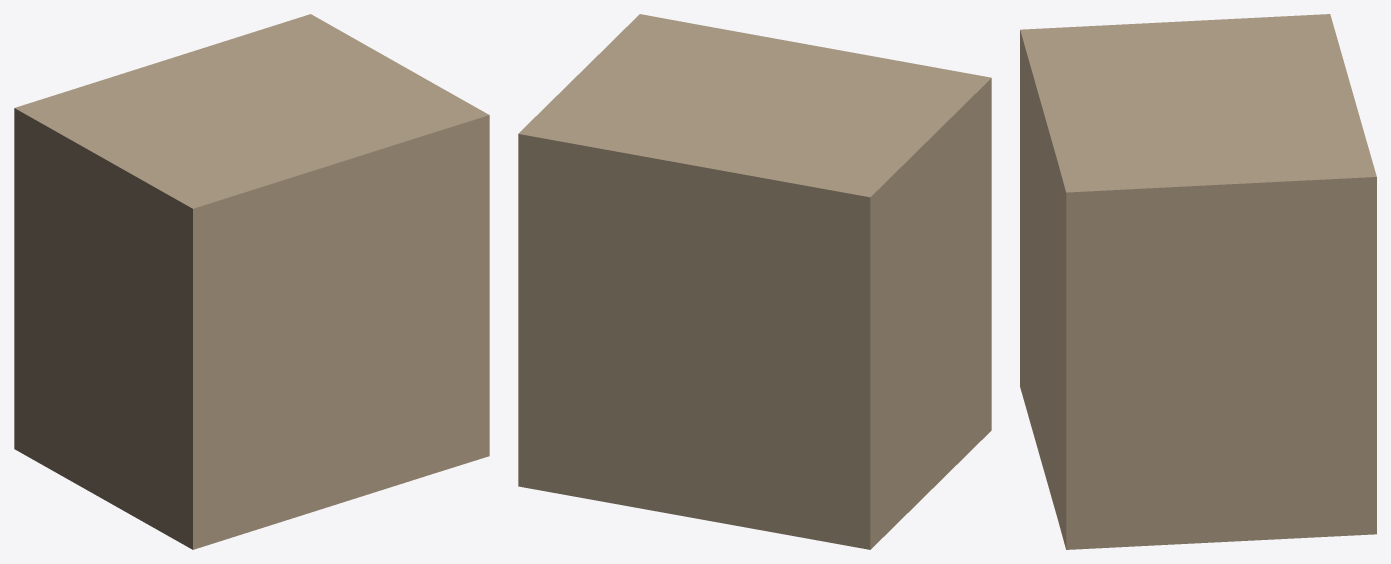
File: bld_109053868.dae
The picture shows the model from 3 angles, left to right: view 1: azimuth 30°, elevation 25°; view 2: azimuth 150°, elevation 25°; view 3: azimuth 270°, elevation 25°; orthographic projection. The views are drawn at different scales.
Parts seen in each view (by area): view 1: bld_109053868; view 2: bld_109053868; view 3: bld_109053868.
Part boxes in pixels (x1=…): bld_109053868: x1=14, y1=14, x2=489, y2=549; bld_109053868: x1=518, y1=14, x2=991, y2=549; bld_109053868: x1=1020, y1=14, x2=1376, y2=549.
Bounding box in the file's own units: 8.57 × 7.24 × 8.
